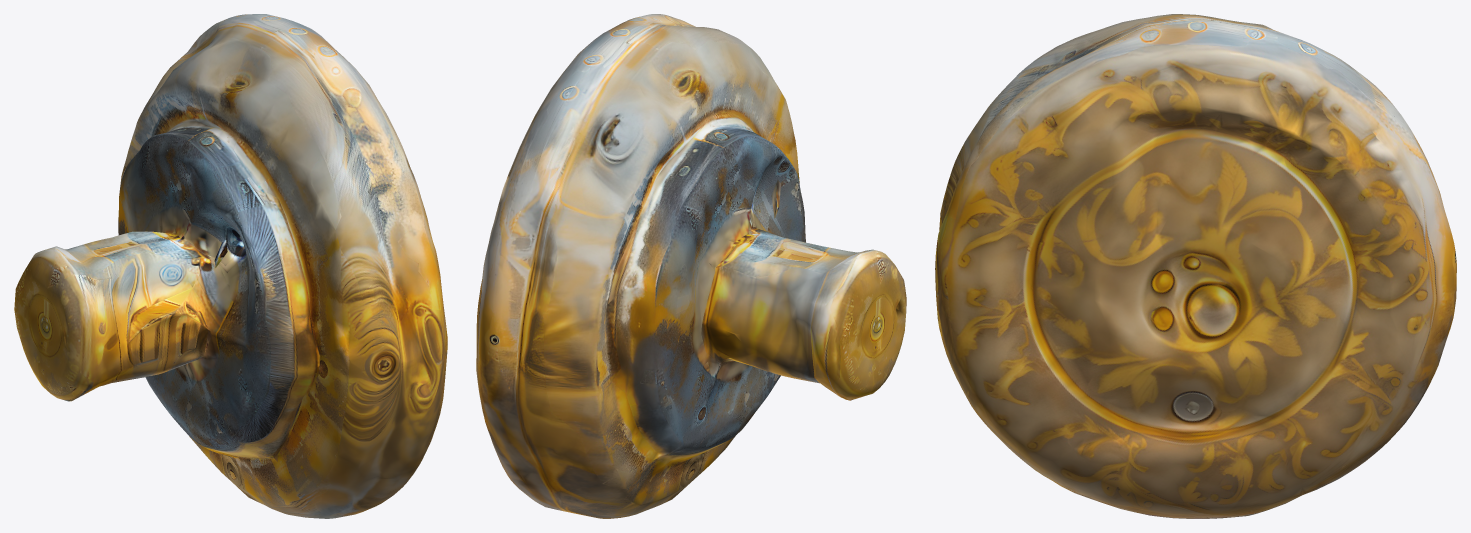
The picture shows the model from 3 angles, left to right: view 1: azimuth 30°, elevation 25°; view 2: azimuth 150°, elevation 25°; view 3: azimuth 270°, elevation 25°; orthographic projection. The views are drawn at different scales.
Visible parts, largest first — view 1: Mesh_0; view 2: Mesh_0; view 3: Mesh_0.
Boxes of the visible parts, x1=… form: Mesh_0: x1=14, y1=14, x2=447, y2=518; Mesh_0: x1=476, y1=14, x2=906, y2=518; Mesh_0: x1=935, y1=14, x2=1456, y2=518.
Bounding box in the file's own units: 83.97 × 120 × 115.
1 material, 1 textured.
